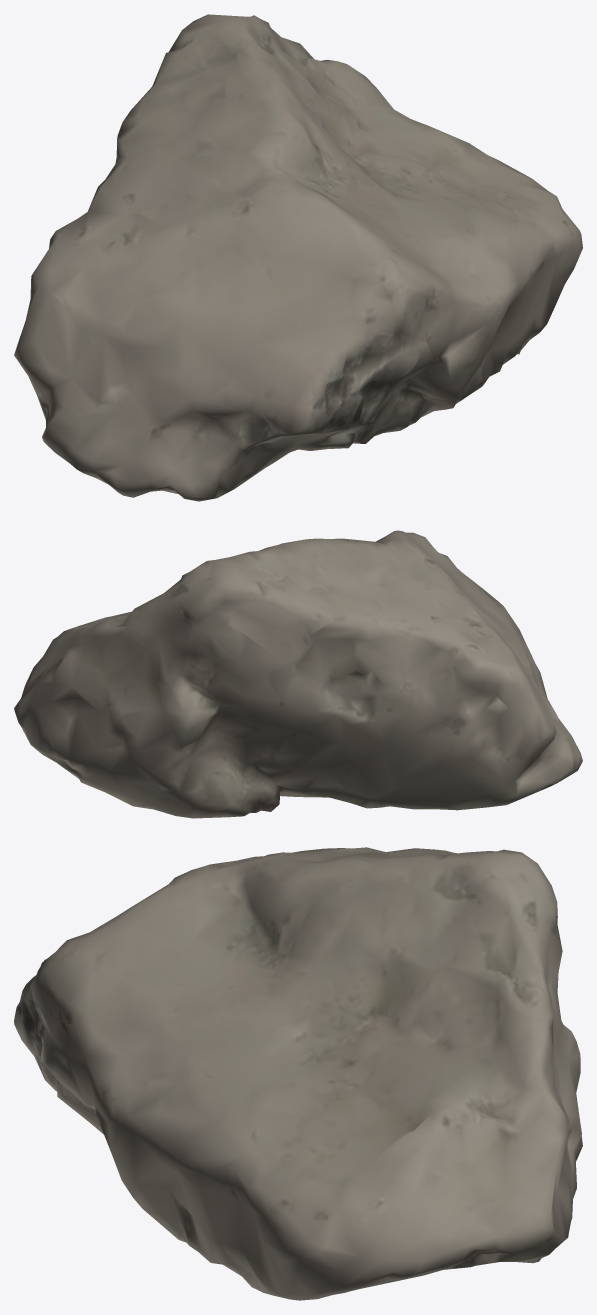
The model's file is moon-rock-03.glb.
3 views of the same model, one above another, from view 1: azimuth 30°, elevation 25°; view 2: azimuth 150°, elevation 25°; view 3: azimuth 270°, elevation 25° (orthographic). The views are drawn at different scales.
Visible parts, largest first — view 1: moon_rock_03_LOD0; view 2: moon_rock_03_LOD0; view 3: moon_rock_03_LOD0.
Part boxes in pixels (box(x1,y1,x2,y2)): moon_rock_03_LOD0: box(14, 14, 582, 501); moon_rock_03_LOD0: box(14, 530, 582, 818); moon_rock_03_LOD0: box(14, 847, 582, 1300).
Size of the model in its own units: 1.47 by 0.7614 by 1.13.
1 material, 1 textured.
